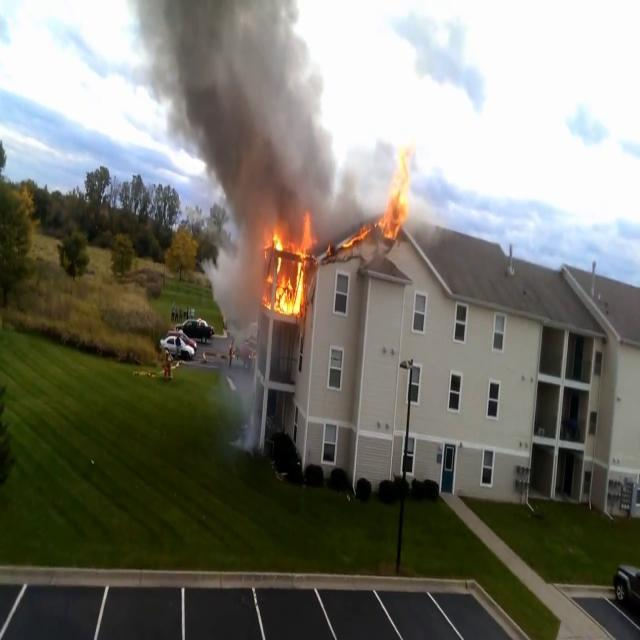Fire: (262, 218, 314, 320), (378, 139, 420, 238)
Smoke: (142, 1, 368, 232)
